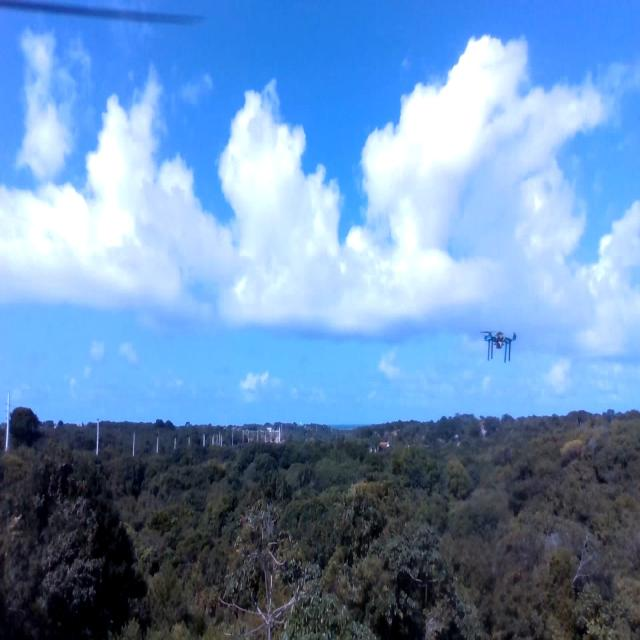-uav-: (475, 318, 521, 369)
